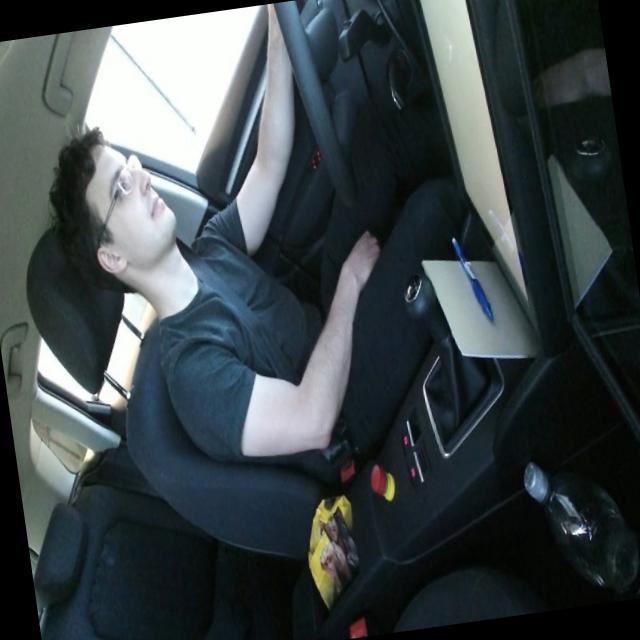pen: (450, 230, 494, 326)
